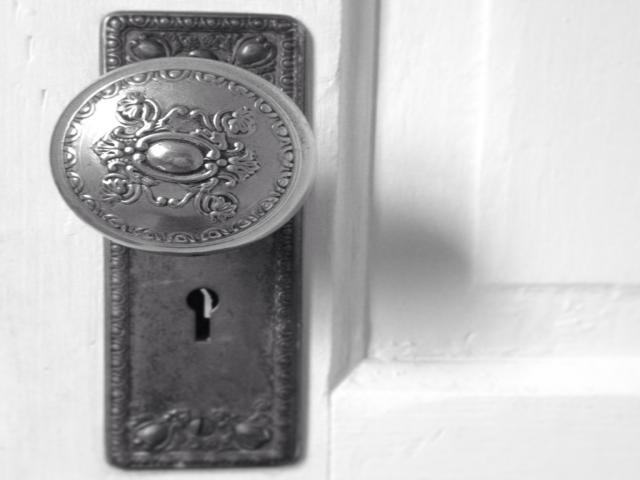Door-handle: (49, 11, 318, 470)
